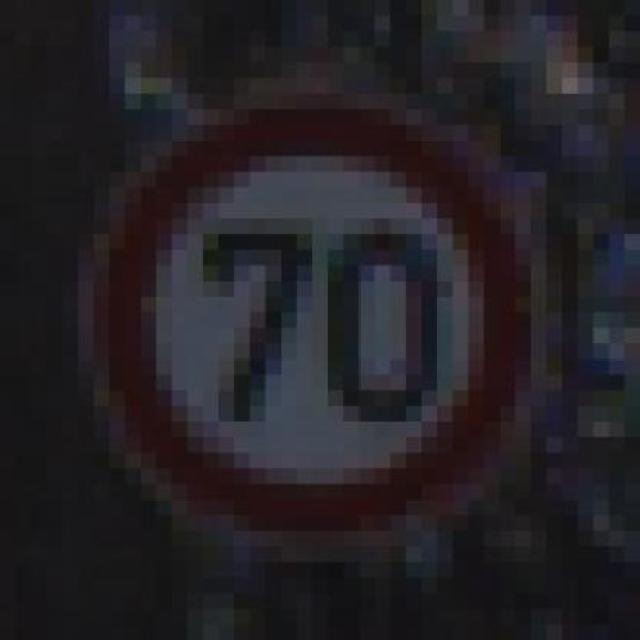forb_speed_over_70: (105, 100, 534, 532)
